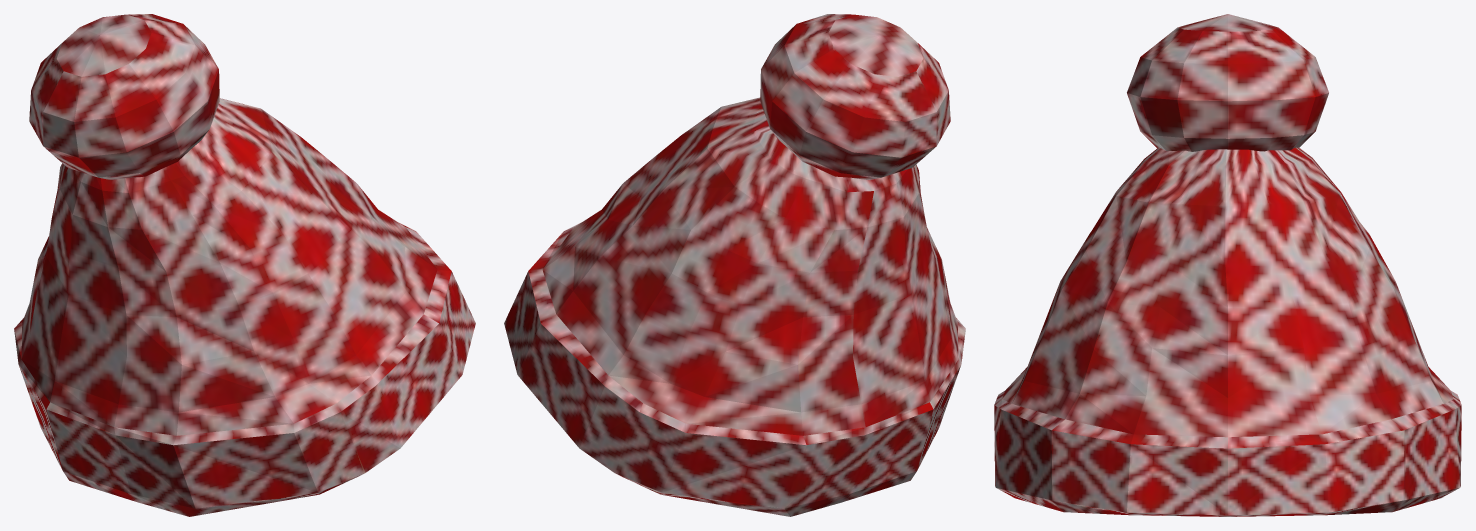
The model's file is PATTERN POMPOM HAT.fbx.
3 renders of one model, left to right at view 1: azimuth 30°, elevation 25°; view 2: azimuth 150°, elevation 25°; view 3: azimuth 270°, elevation 25°, orthographic.
Visible parts, largest first — view 1: PATTERN_POMPOM_HAT; view 2: PATTERN_POMPOM_HAT; view 3: PATTERN_POMPOM_HAT.
Boxes of the visible parts, box(x1,y1,x2,y2) form: PATTERN_POMPOM_HAT: box(14, 14, 475, 516); PATTERN_POMPOM_HAT: box(504, 14, 965, 516); PATTERN_POMPOM_HAT: box(994, 14, 1461, 516).
Size of the model in its own units: 30.52 by 33.2 by 31.29.
